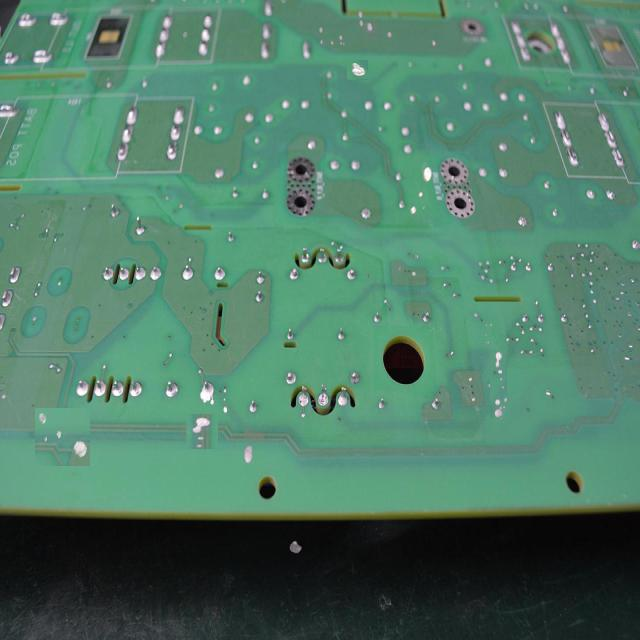spillover: (35, 408, 90, 466), (490, 348, 508, 419), (184, 414, 219, 449), (348, 59, 368, 80), (420, 158, 432, 184)
